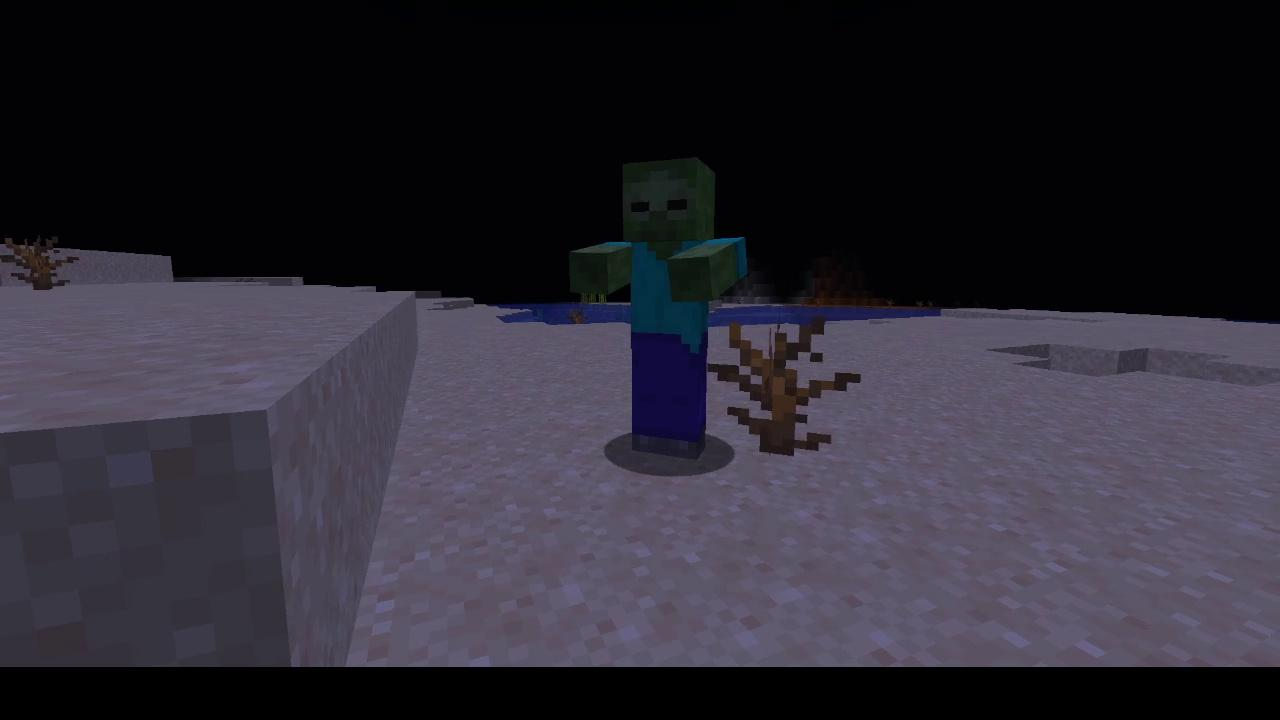zombie: (561, 154, 756, 465)
